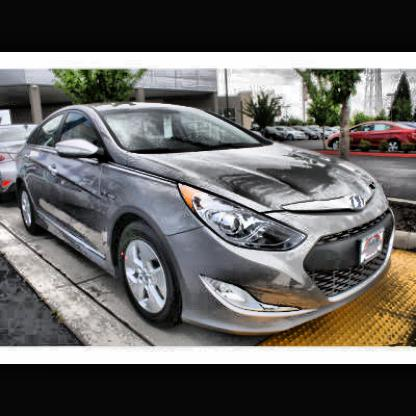Hyundai Sonata Hybrid Sedan 2012: (18, 104, 399, 341)
